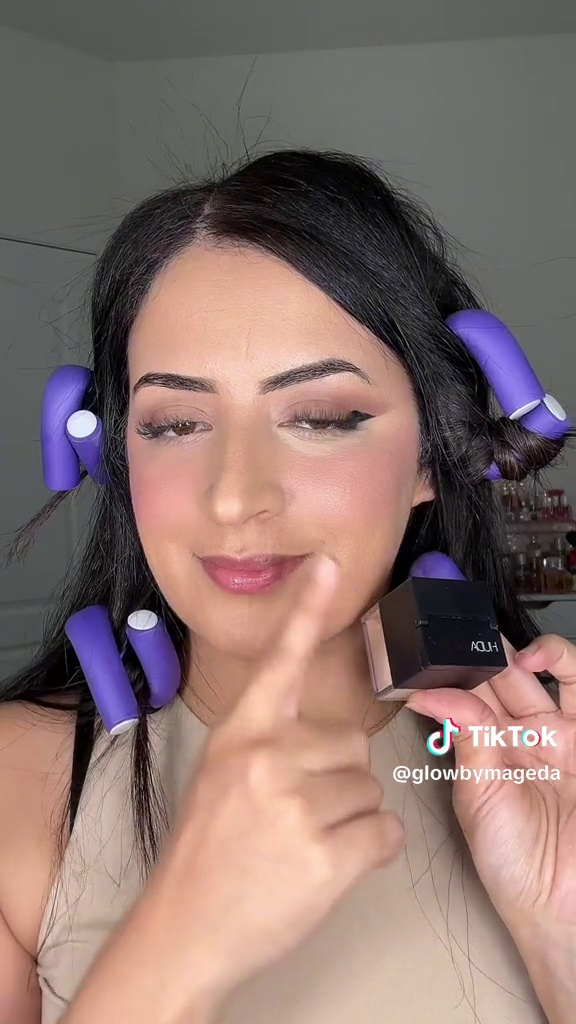train' :'yolo_data/train/images',: (349, 570, 514, 707)
